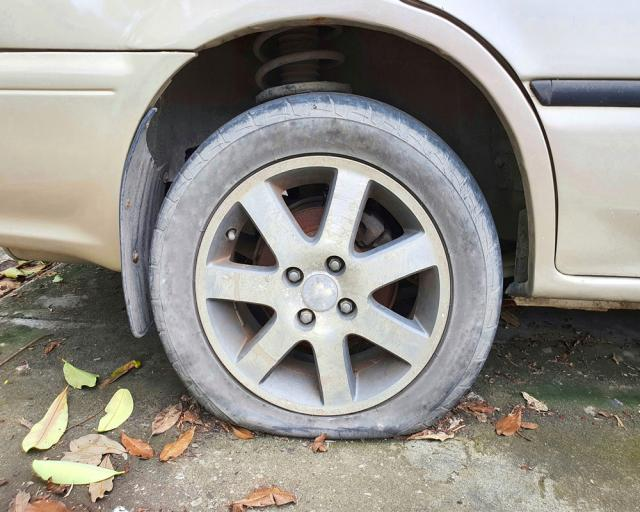tire flat: (148, 91, 504, 442)
